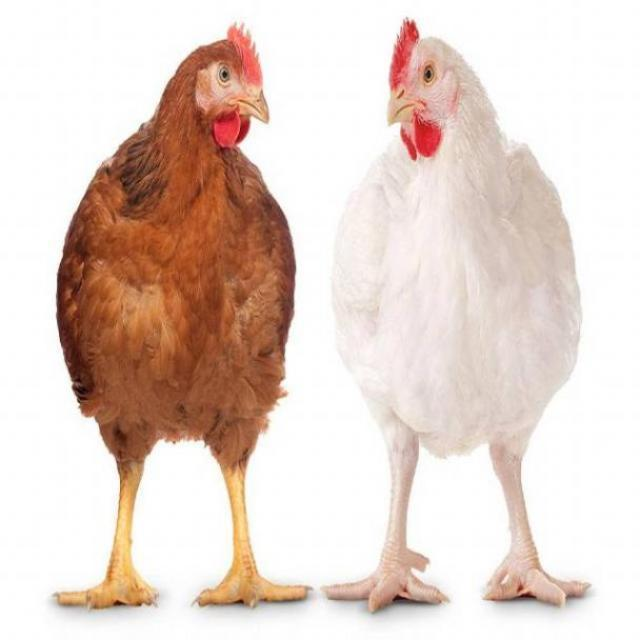Chicken: (324, 18, 596, 613), (49, 19, 310, 628)
